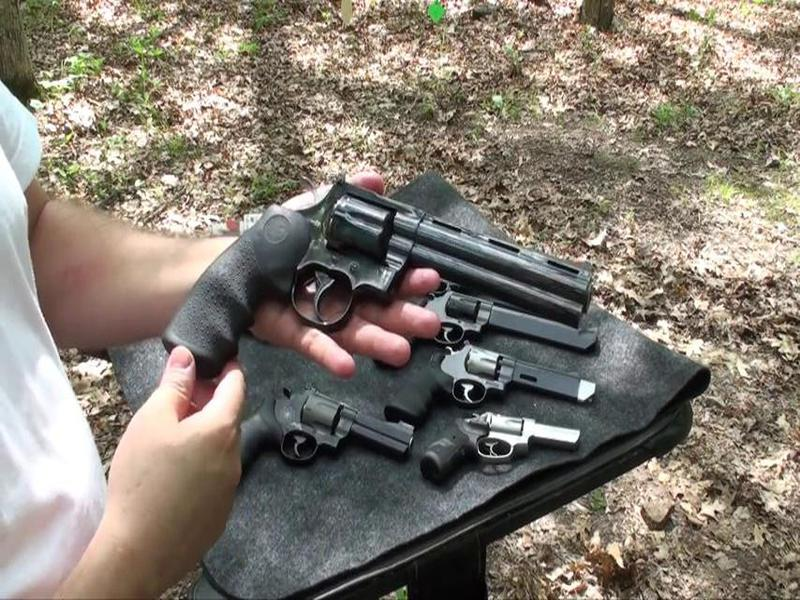Revolver: (213, 162, 597, 357)
